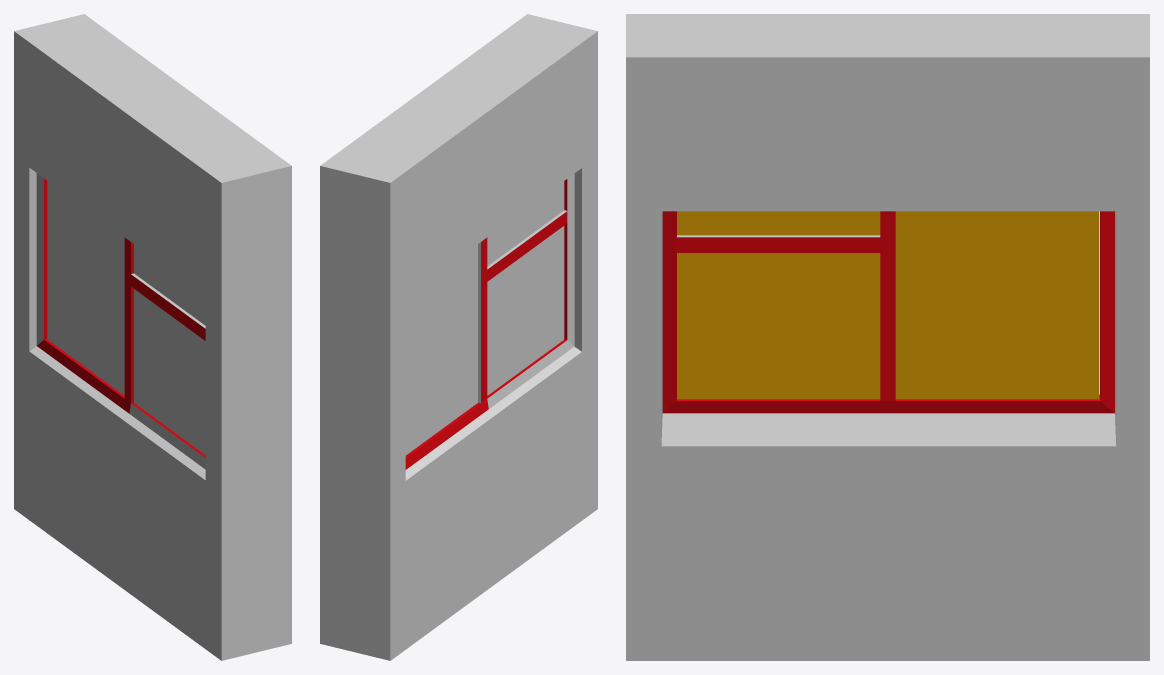
File: windowfbx.fbx
3 renders of one model, left to right at view 1: azimuth 30°, elevation 25°; view 2: azimuth 150°, elevation 25°; view 3: azimuth 270°, elevation 25°, orthographic. The views are drawn at different scales.
Visible parts, largest first — view 1: Куб; view 2: Куб; view 3: Куб.
Part boxes in pixels (x1=…): Куб: x1=14, y1=14, x2=291, y2=660; Куб: x1=320, y1=14, x2=597, y2=660; Куб: x1=626, y1=14, x2=1149, y2=660.
Bounding box in the file's own units: 46.2 × 300 × 236.
